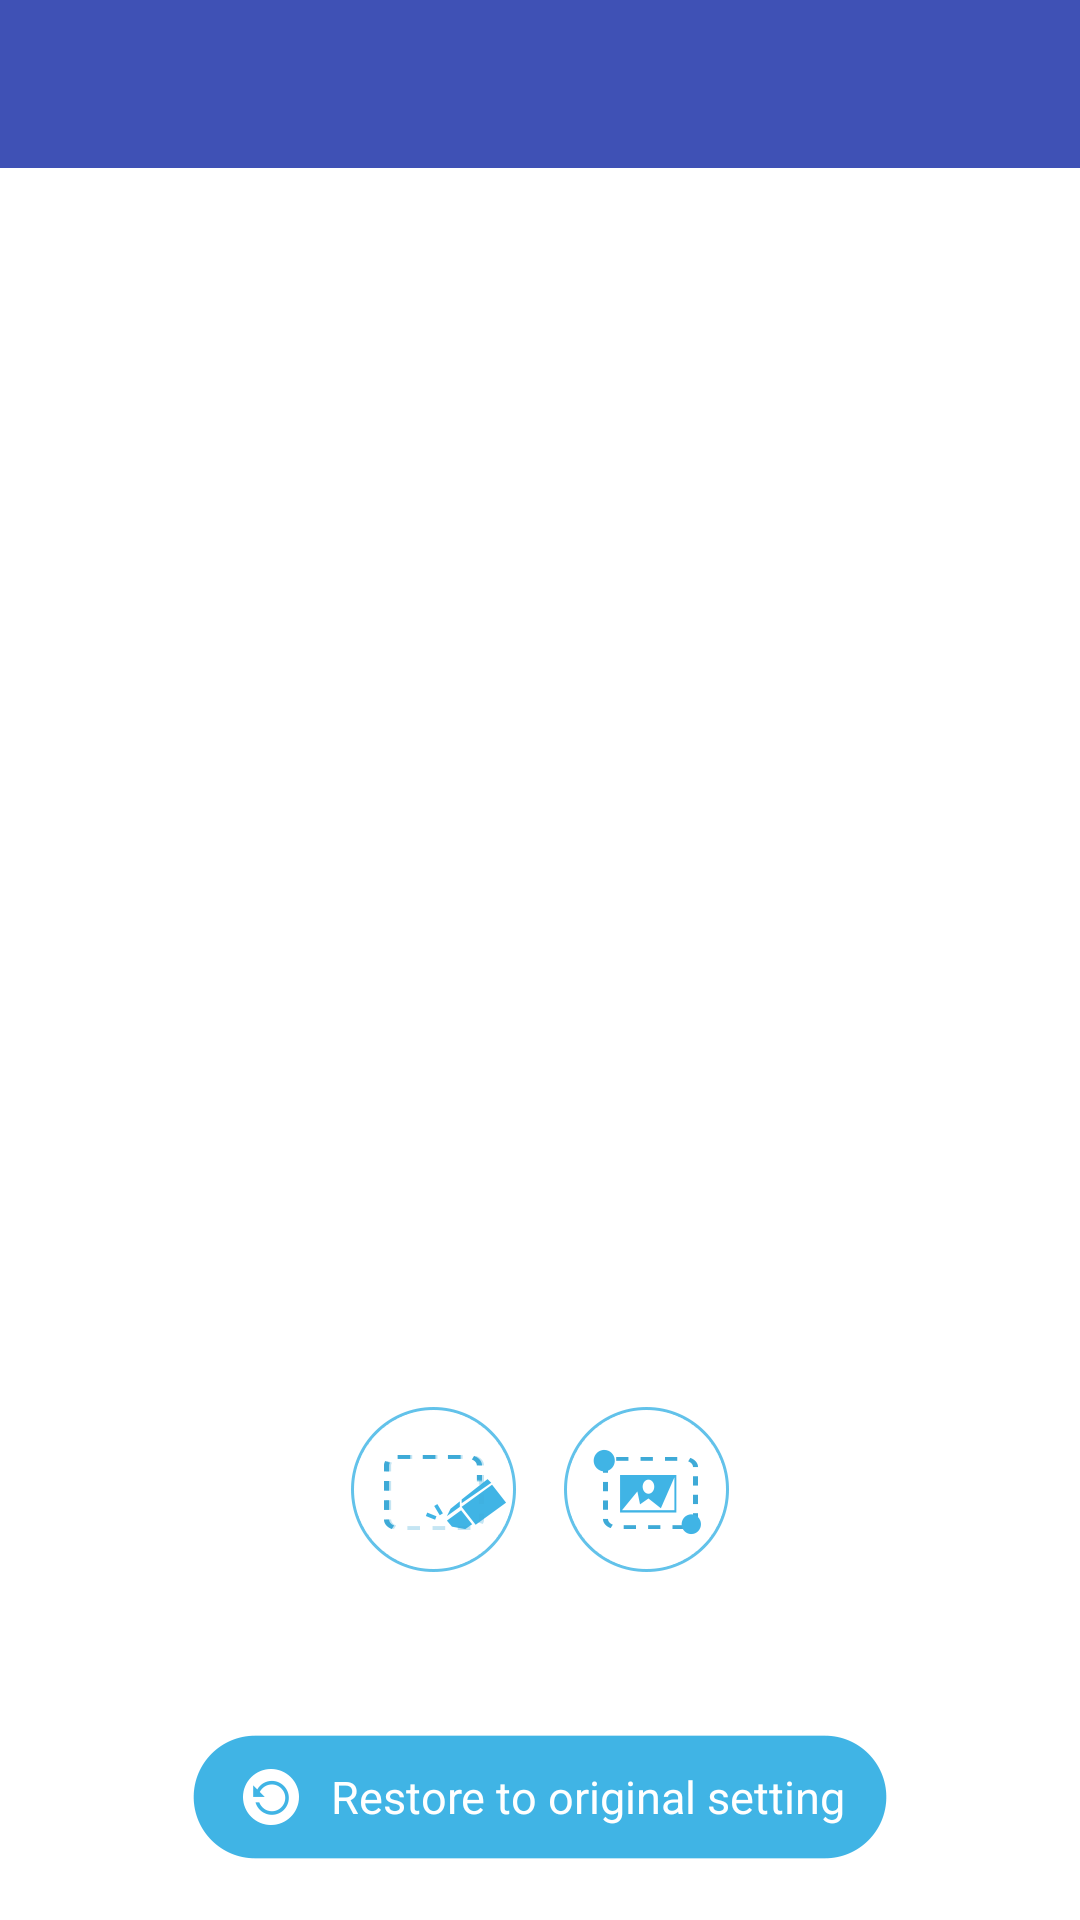

Icon click points for this 1080 × 1920 phone screenshot, format [x,y]:
setting motion: [646,1489]
setting motion clear: [433,1489]
setting motion revert: [271,1797]
